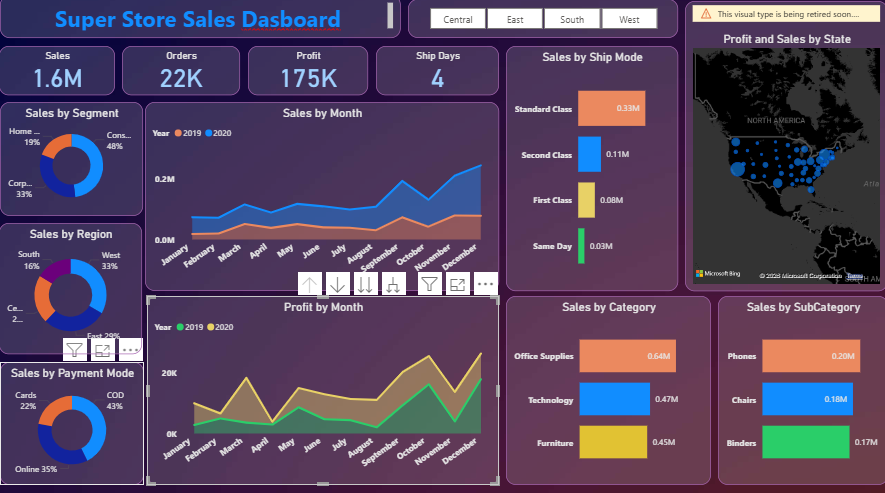

The page's visual inventory and layout, read from the dashboard file:
{"tool":"powerbi","page":{"name":"Page 1","canvas":[1280,720],"ordinal":0},"visuals":[{"type":"clusteredBarChart","title":"Sales by Category","fields":{"Category":["SuperStore Sales DataSet.Category"],"Y":["Sum(SuperStore Sales DataSet.Sales)"]},"box":[730.1,433.4,295.2,272.2],"z":0},{"type":"clusteredBarChart","title":"Sales by SubCategory","fields":{"Category":["SuperStore Sales DataSet.Sub-Category"],"Y":["Sum(SuperStore Sales DataSet.Sales)"]},"box":[1036.8,433.4,243.4,272.2],"z":1000},{"type":"clusteredBarChart","title":"Sales by Ship Mode","fields":{"Category":["SuperStore Sales DataSet.Ship Mode"],"Y":["Sum(SuperStore Sales DataSet.Sales)"]},"box":[730.1,73.4,247.7,352.8],"z":2000},{"type":"stackedAreaChart","title":" Sales by Month","fields":{"Y":["Sum(SuperStore Sales DataSet.Sales)"],"Series":["SuperStore Sales DataSet.Order Date.Variation.Date Hierarchy.Year"],"Category":["SuperStore Sales DataSet.Order Date.Variation.Date Hierarchy.Month","SuperStore Sales DataSet.Order Date.Variation.Date Hierarchy.Day"]},"box":[210.2,154.1,509.8,272.2],"z":3000},{"type":"stackedAreaChart","title":"Profit by  Month","fields":{"Series":["SuperStore Sales DataSet.Order Date.Variation.Date Hierarchy.Year"],"Category":["SuperStore Sales DataSet.Order Date.Variation.Date Hierarchy.Month","SuperStore Sales DataSet.Order Date.Variation.Date Hierarchy.Day"],"Y":["Sum(SuperStore Sales DataSet.Profit)"]},"box":[213.1,433.4,506.9,272.2],"z":4000},{"type":"map","title":"Profit and Sales by State","fields":{"Category":["SuperStore Sales DataSet.State"],"Size":["Sum(SuperStore Sales DataSet.Sales)"]},"box":[987.8,8.6,292.3,417.6],"z":5000},{"type":"donutChart","title":"Sales by Segment","fields":{"Category":["SuperStore Sales DataSet.Segment"],"Y":["Sum(SuperStore Sales DataSet.Sales)"]},"box":[1.4,154.1,205.9,164.2],"z":6000},{"type":"donutChart","title":"Sales by Payment Mode","fields":{"Category":["SuperStore Sales DataSet.Payment Mode"],"Y":["Sum(SuperStore Sales DataSet.Sales)"]},"box":[1.4,528.5,207.4,177.1],"z":7000},{"type":"slicer","fields":{"Values":["SuperStore Sales DataSet.Region"]},"box":[589,5.8,388.8,56.2],"z":8000},{"type":"textbox","box":[1.4,0,577.4,61.9],"z":9000},{"type":"card","title":"Sales","fields":{"Values":["Sum(SuperStore Sales DataSet.Sales)"]},"box":[0,73.4,167,70.6],"z":10000},{"type":"card","title":"Orders","fields":{"Values":["Sum(SuperStore Sales DataSet.Quantity)"]},"box":[177.1,73.4,169.9,70.6],"z":11000},{"type":"card","title":"Profit","fields":{"Values":["Sum(SuperStore Sales DataSet.Profit)"]},"box":[358.6,73.4,172.8,70.6],"z":12000},{"type":"card","title":"Ship Days","fields":{"Values":["Avg(SuperStore Sales DataSet.AvgDelivery)"]},"box":[542.9,73.4,177.1,70.6],"z":13000},{"type":"donutChart","title":"Sales by Region","fields":{"Category":["SuperStore Sales DataSet.Region"],"Y":["Sum(SuperStore Sales DataSet.Sales)"]},"box":[0,328.3,205.9,188.6],"z":14000}]}

Visuals, with their boxes in screenshot pixels (x1, y1, x2, y2), scaled from the page's 1280x720 canvas onto the 885x493 screenshot:
"Sales by Category" clusteredBarChart: [505, 297, 709, 483]
"Sales by SubCategory" clusteredBarChart: [717, 297, 884, 483]
"Sales by Ship Mode" clusteredBarChart: [505, 50, 676, 292]
" Sales by Month" stackedAreaChart: [145, 106, 498, 292]
"Profit by  Month" stackedAreaChart: [147, 297, 498, 483]
"Profit and Sales by State" map: [683, 6, 884, 292]
"Sales by Segment" donutChart: [1, 106, 143, 218]
"Sales by Payment Mode" donutChart: [1, 362, 144, 483]
slicer - SuperStore Sales DataSet.Region: [407, 4, 676, 42]
textbox: [1, 0, 400, 42]
"Sales" card: [0, 50, 115, 99]
"Orders" card: [122, 50, 240, 99]
"Profit" card: [248, 50, 367, 99]
"Ship Days" card: [375, 50, 498, 99]
"Sales by Region" donutChart: [0, 225, 142, 354]
